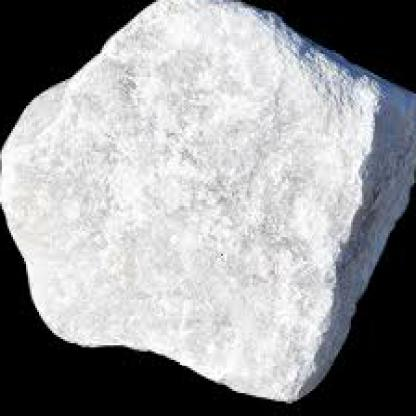Metamorphic_Marble: (2, 0, 415, 406)
